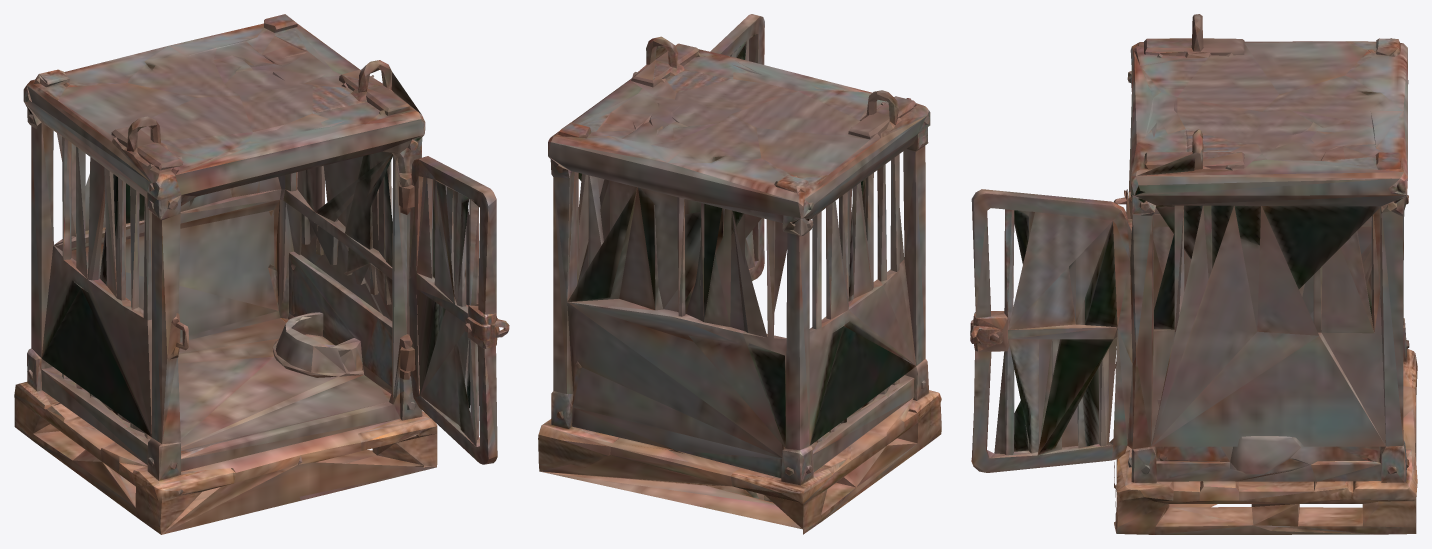
File: prop_kennel.glb
The picture shows the model from 3 angles, left to right: view 1: azimuth 30°, elevation 25°; view 2: azimuth 150°, elevation 25°; view 3: azimuth 270°, elevation 25°; orthographic projection. The views are drawn at different scales.
Bounding box in the file's own units: 1.41 × 1.84 × 1.89.
1 material, 1 textured.
